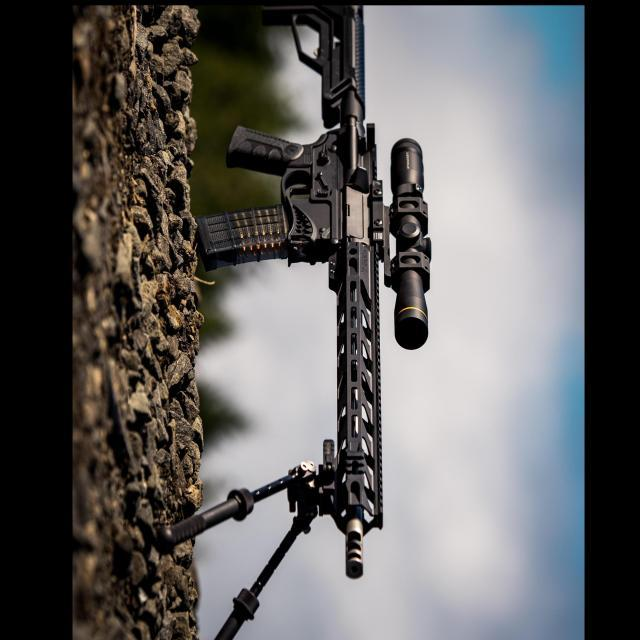weapon: (156, 6, 432, 640)
